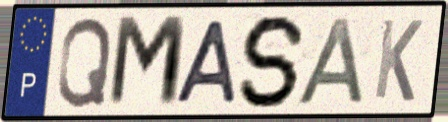A: (293, 15, 369, 107), (171, 17, 241, 106)
K: (371, 16, 426, 105)
M: (105, 13, 190, 112)
Q: (54, 15, 115, 110)
S: (236, 12, 311, 110)
